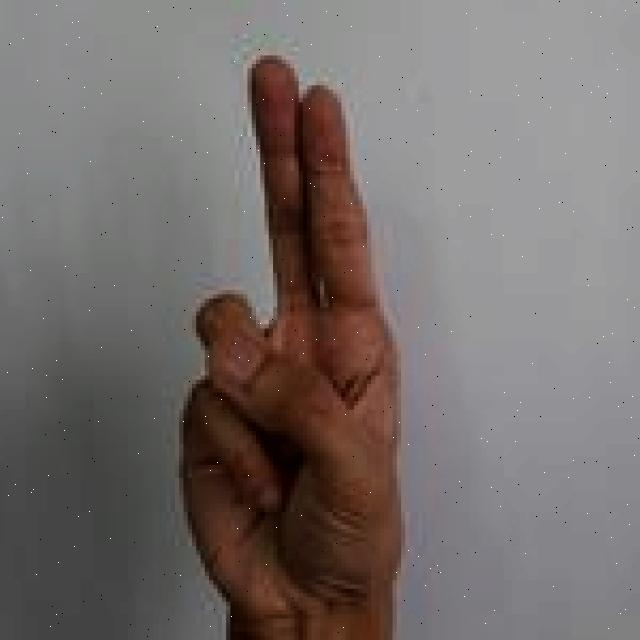U: (177, 52, 414, 640)
